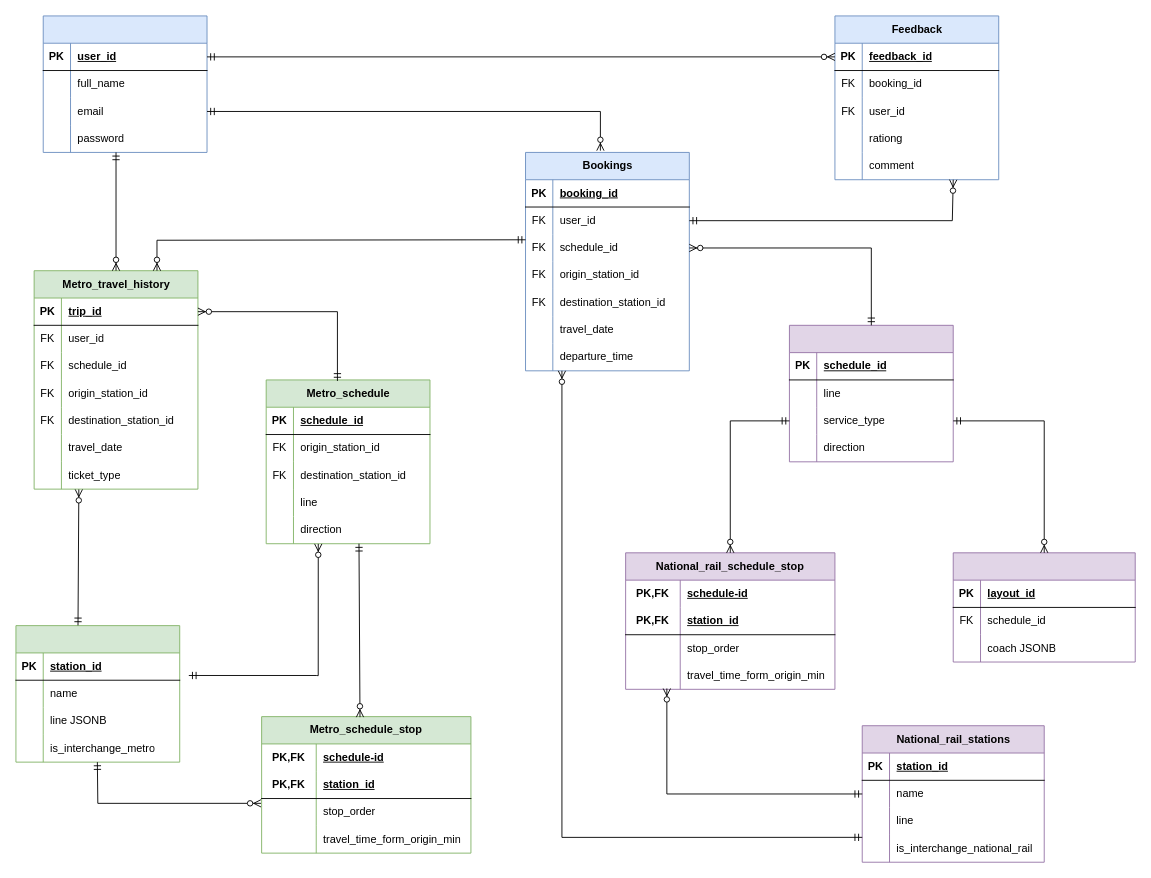
The diagram is 1151 pixels wide and 878 high, and some of its shapes have lost their labels. Each missing label, with the box of its shape:
Metro_stations: (15, 625, 180, 762)
National_rail_schedule: (789, 324, 953, 462)
National_rail_seat_layouts: (952, 552, 1135, 662)
Registered_users: (42, 15, 207, 152)
